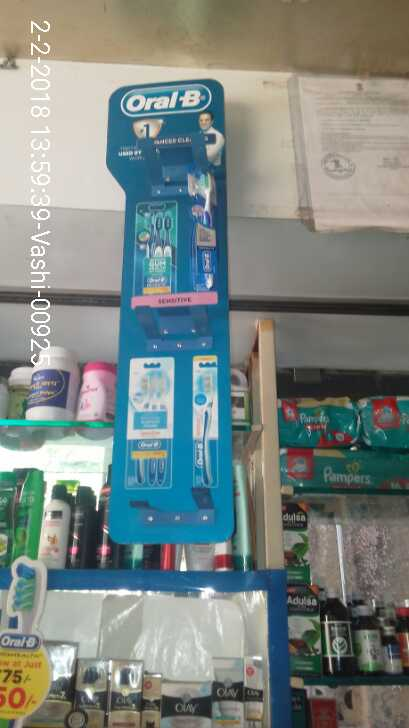pharmacy: (185, 167, 226, 285), (278, 400, 360, 444), (364, 398, 409, 442)
